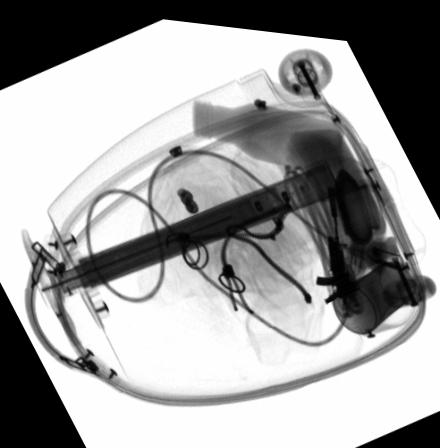Gun: (314, 178, 359, 315)
